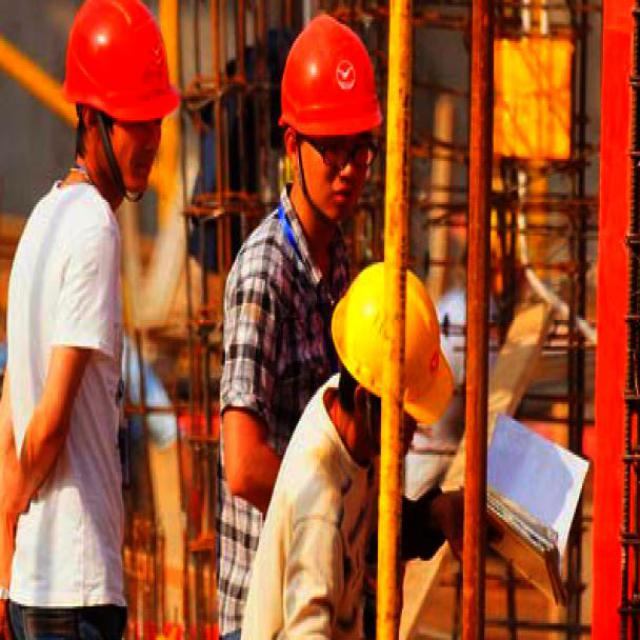helmet: (41, 0, 176, 208), (324, 253, 444, 477), (265, 0, 372, 234)
